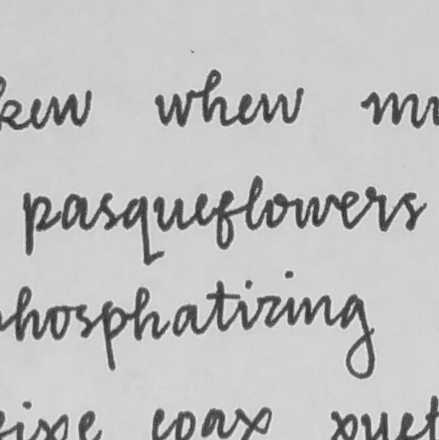a: (57, 191, 91, 233)
e: (337, 188, 361, 230), (190, 191, 211, 227)
f: (212, 188, 236, 253)
l: (243, 172, 265, 232)
o: (264, 191, 290, 230)
p: (20, 190, 55, 258)
q: (120, 194, 151, 267)
r: (362, 184, 390, 233)
s: (94, 190, 118, 233), (399, 190, 423, 232)
u: (152, 194, 186, 234)
w: (292, 192, 333, 230)
